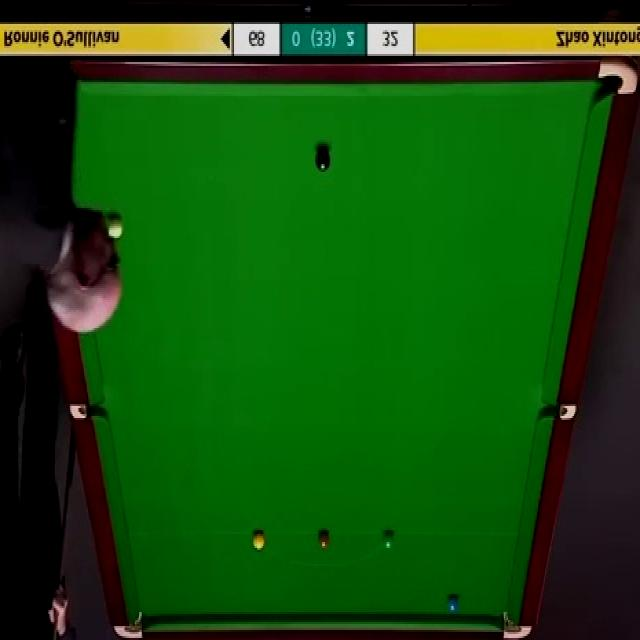black-ball: (314, 147, 331, 173)
blue-ball: (446, 596, 459, 613)
brown-ball: (316, 530, 331, 552)
green-ball: (380, 530, 395, 550)
white-ball: (107, 215, 123, 242)
yellow-ball: (252, 531, 265, 552)
